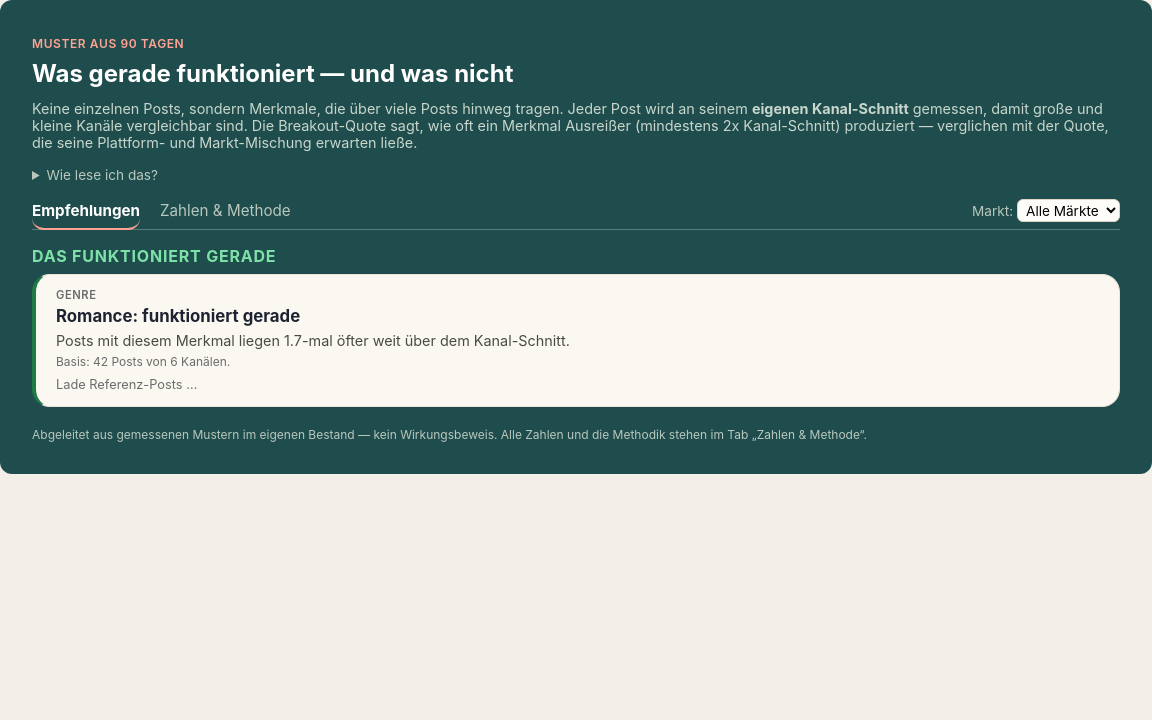
Test: PatternsBlock — Flag-Gate und Bericht › zeigt mit Flag die Zellen mit Befund — insufficient nur als Zaehler
This screenshot has width=1152, height=720.
Click the button "Zahlen & Methode": (225, 215) [160,201,291,230]
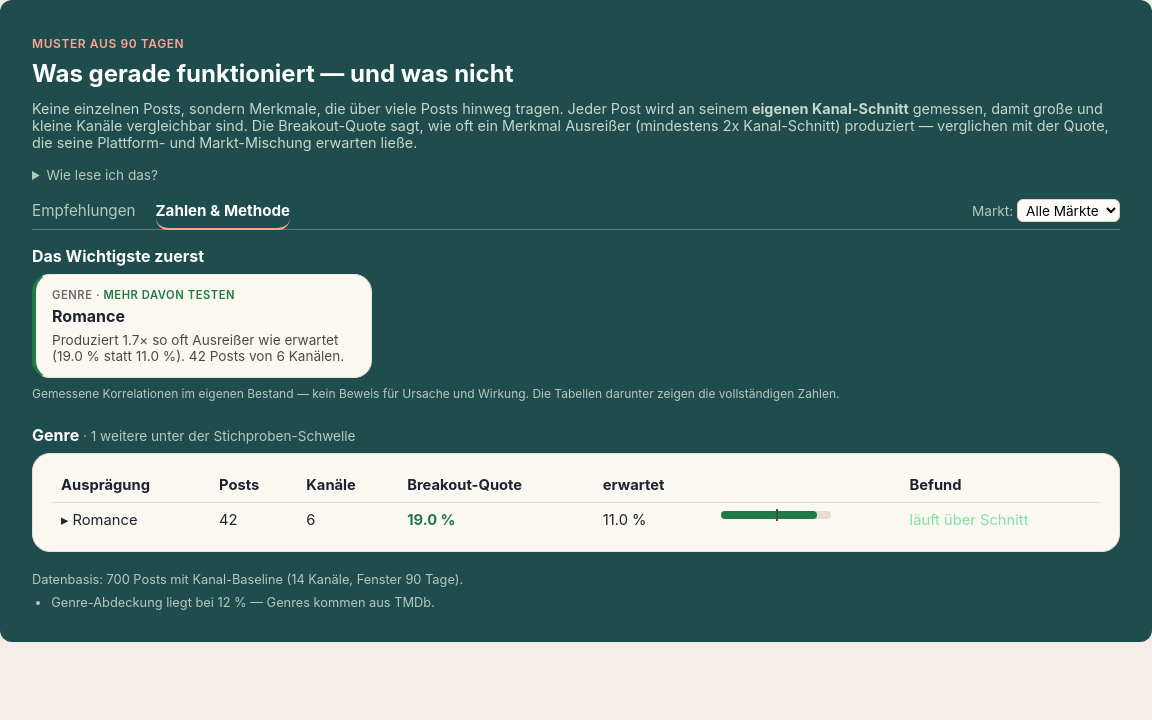
Now the text "läuft über Schnitt" is shown, box [900,503,1101,537]
Now the text "· 1 weitere unter der Stichproben-Schwelle" is shown, box [79,428,356,444]
